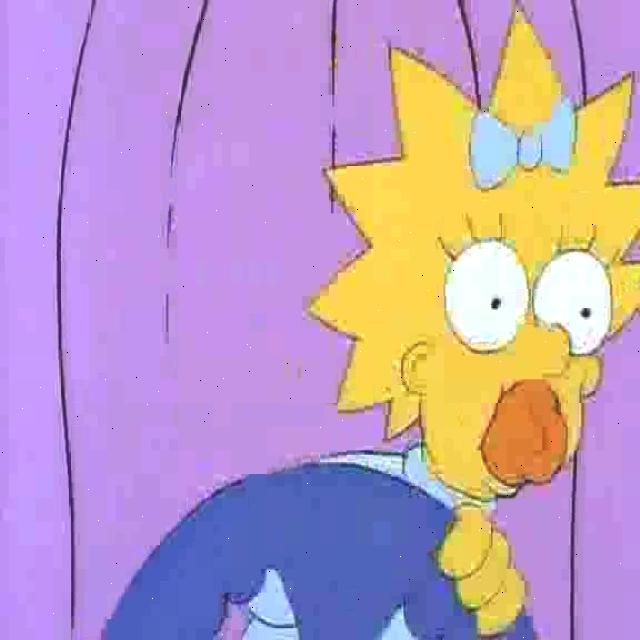Maggie Simpson: (302, 2, 640, 506)
